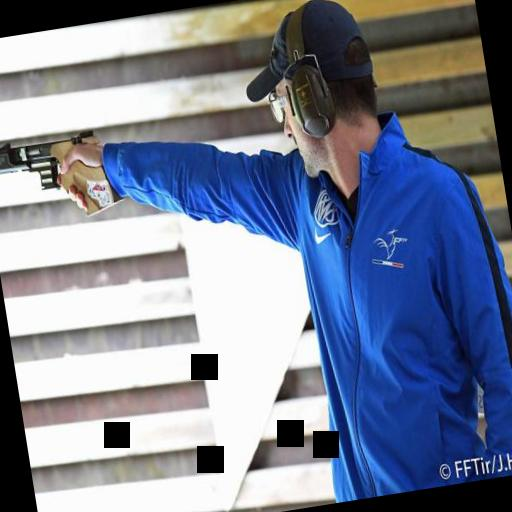Handgun: (0, 117, 125, 231)
